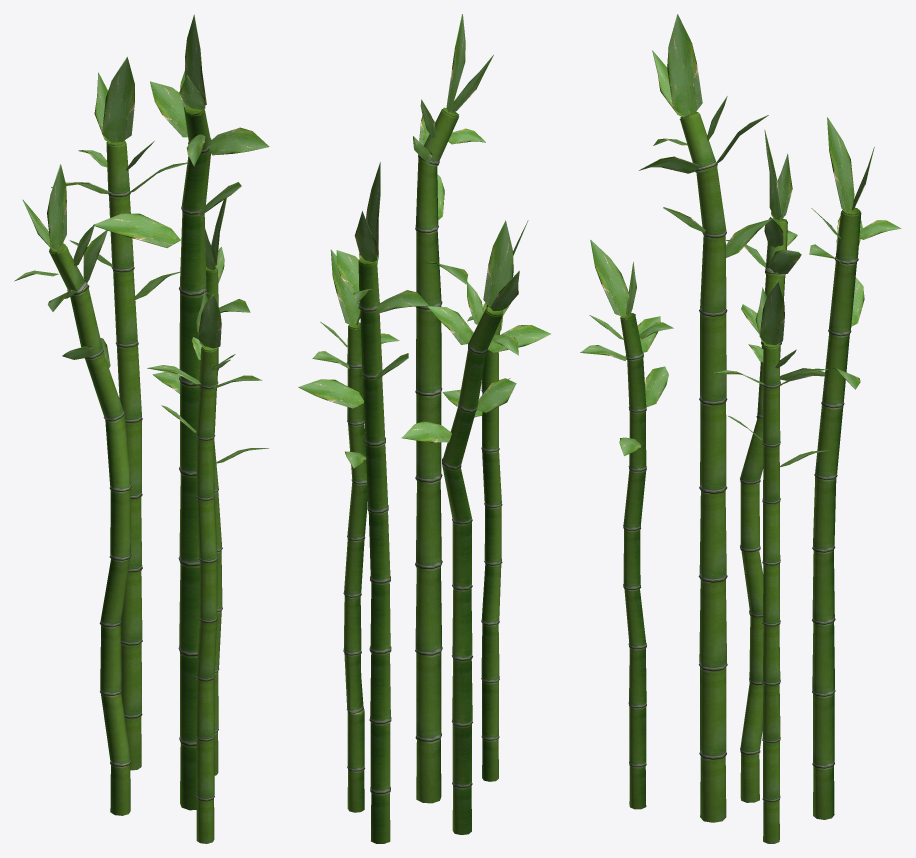
Rendered from BambooCollection.fbx.
3 views of the same model, side by side, from view 1: azimuth 30°, elevation 25°; view 2: azimuth 150°, elevation 25°; view 3: azimuth 270°, elevation 25° (orthographic). The views are drawn at different scales.
Visible parts, largest first — view 1: BambooCollection; view 2: BambooCollection; view 3: BambooCollection.
Boxes of the visible parts, x1,y1,x2,y2 form: BambooCollection: (14,14,269,843); BambooCollection: (298,14,550,843); BambooCollection: (580,14,901,843).
Size of the model in its own units: 111 by 417 by 151.
